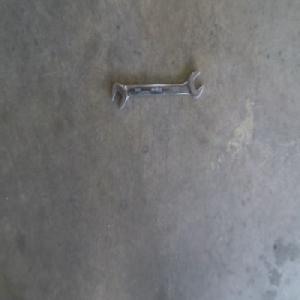Wrench: (108, 71, 206, 112)
